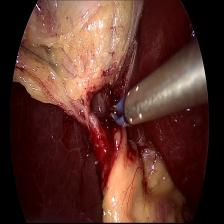Bipolar: (104, 86, 142, 132)
